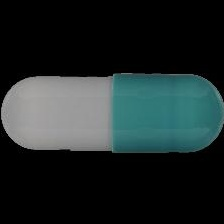0378-8200: (0, 0, 224, 224)
